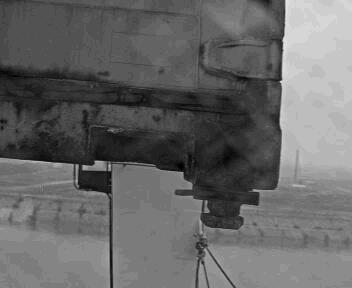twist_lock_1: (188, 183, 264, 233)
